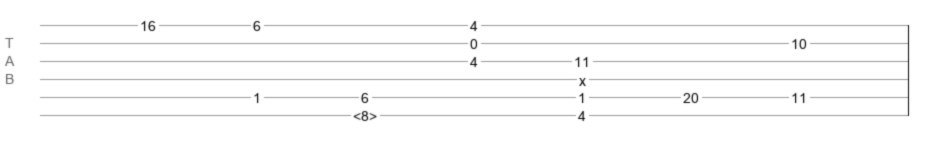0: (470, 36, 478, 46)
1: (253, 90, 261, 100), (578, 90, 586, 100)
10: (791, 36, 807, 46)
11: (574, 54, 590, 64), (791, 90, 807, 100)
16: (140, 18, 156, 28)
20: (683, 90, 699, 100)
4: (470, 54, 478, 64), (470, 18, 478, 28), (578, 108, 586, 118)
6: (253, 18, 261, 28), (361, 90, 369, 100)
harmonic: (353, 108, 377, 118)
x: (579, 73, 586, 81)
